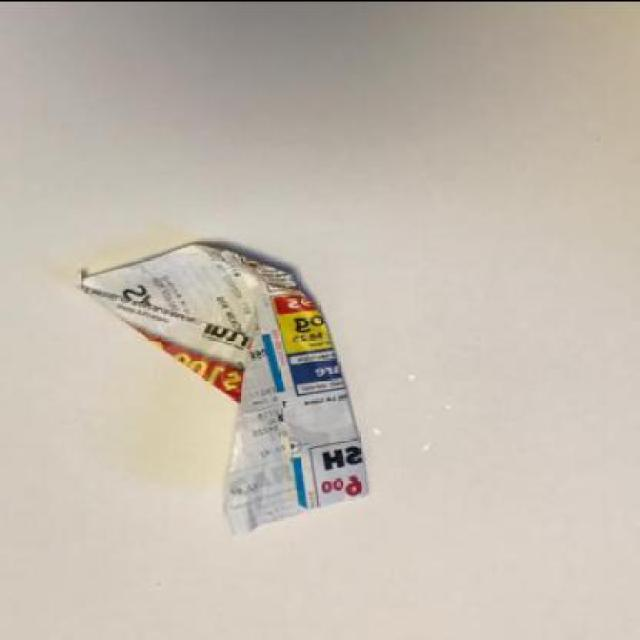PAPER: (76, 244, 372, 538)
